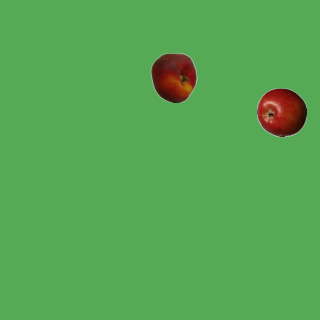Apple Braeburn: (256, 87, 306, 137)
Nectarine Flat: (148, 52, 198, 102)
